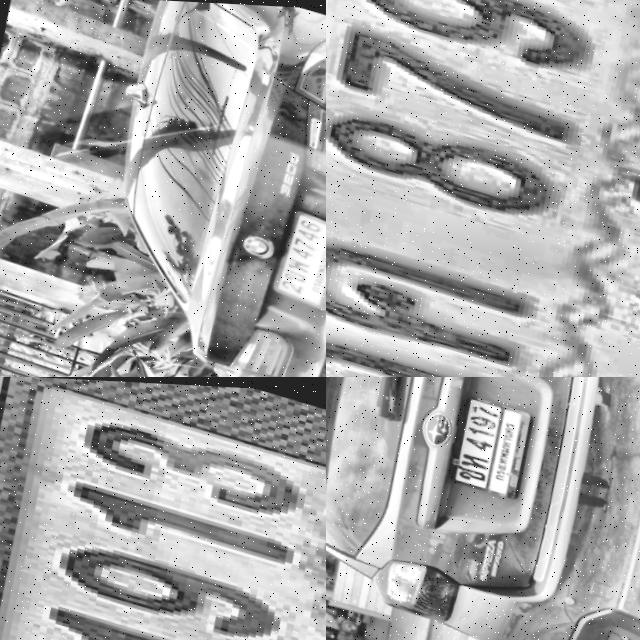license-plate: (326, 0, 640, 377), (0, 377, 326, 640), (439, 389, 532, 496), (255, 199, 326, 306)
